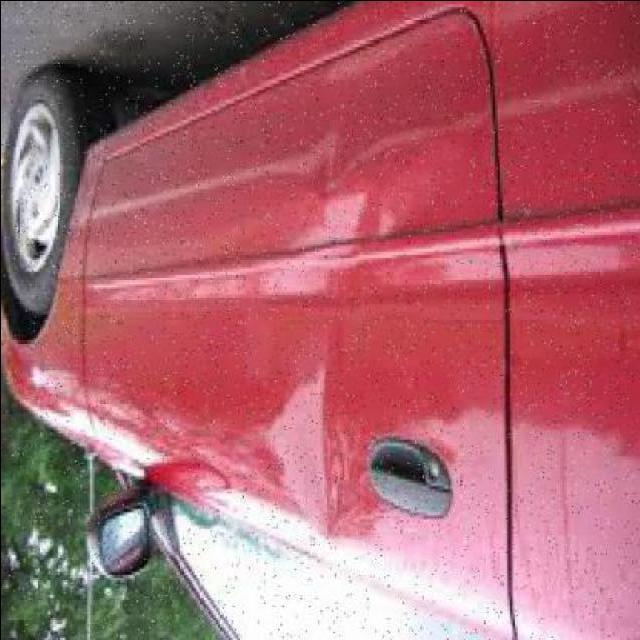doorouter-dent: (96, 99, 509, 640)
